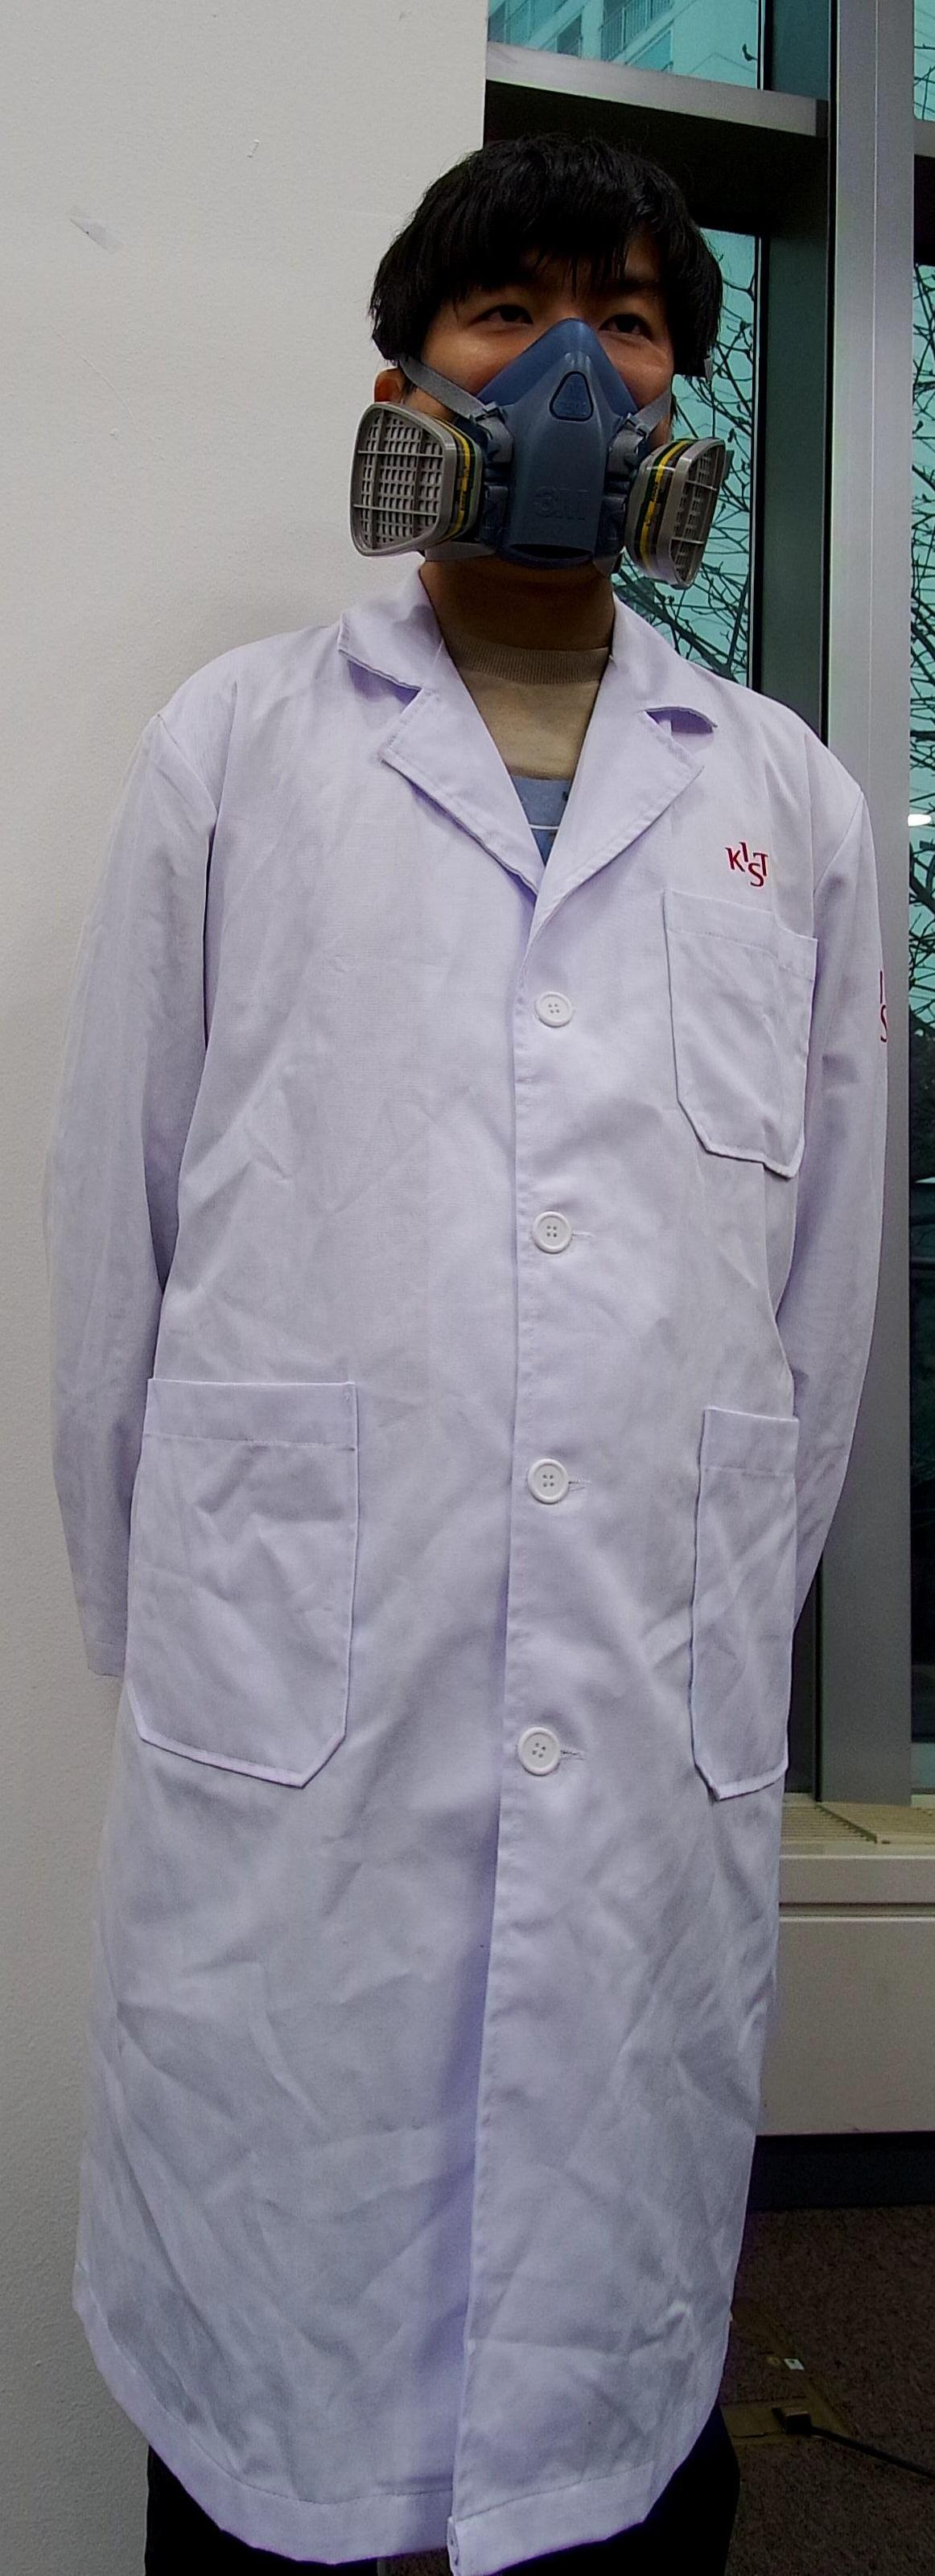lab_coat: (122, 685, 820, 2512)
